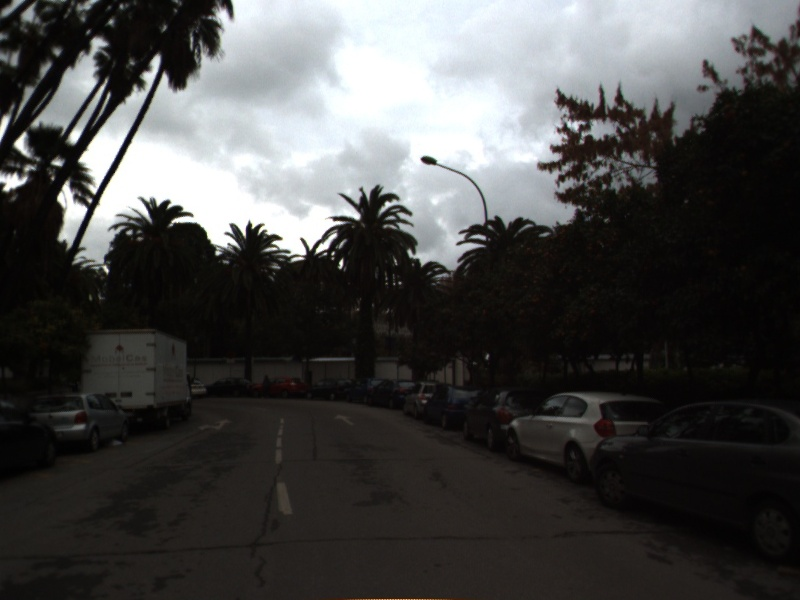STRAIGHT: (332, 412, 357, 428)
STRAIGHT_LEFT: (195, 417, 235, 433)
